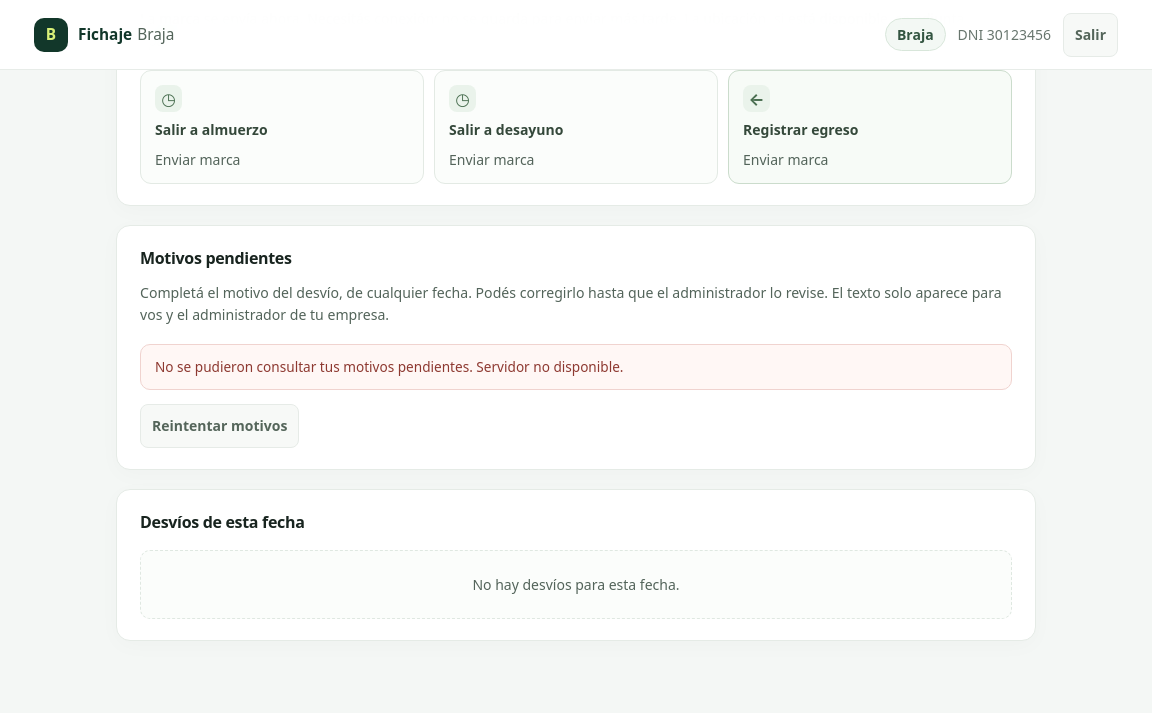
Test: EmployeeApp › panel de motivos pendientes › si fallan los pendientes, la jornada se muestra y el panel ofrece reintentar solo los motivos
(page scrolled)
Expected: the button "← Registrar egreso Enviar marca" is enabled, top-left (728, 70), bottom-right (1012, 184)
Expected: the message shows "No se pudieron consultar tus motivos pendientes.", top-left (155, 356), bottom-right (476, 376)
Click the button "Reintentar motivos" at {"x": 220, "y": 426}, box top-left (140, 404), bottom-right (299, 448)
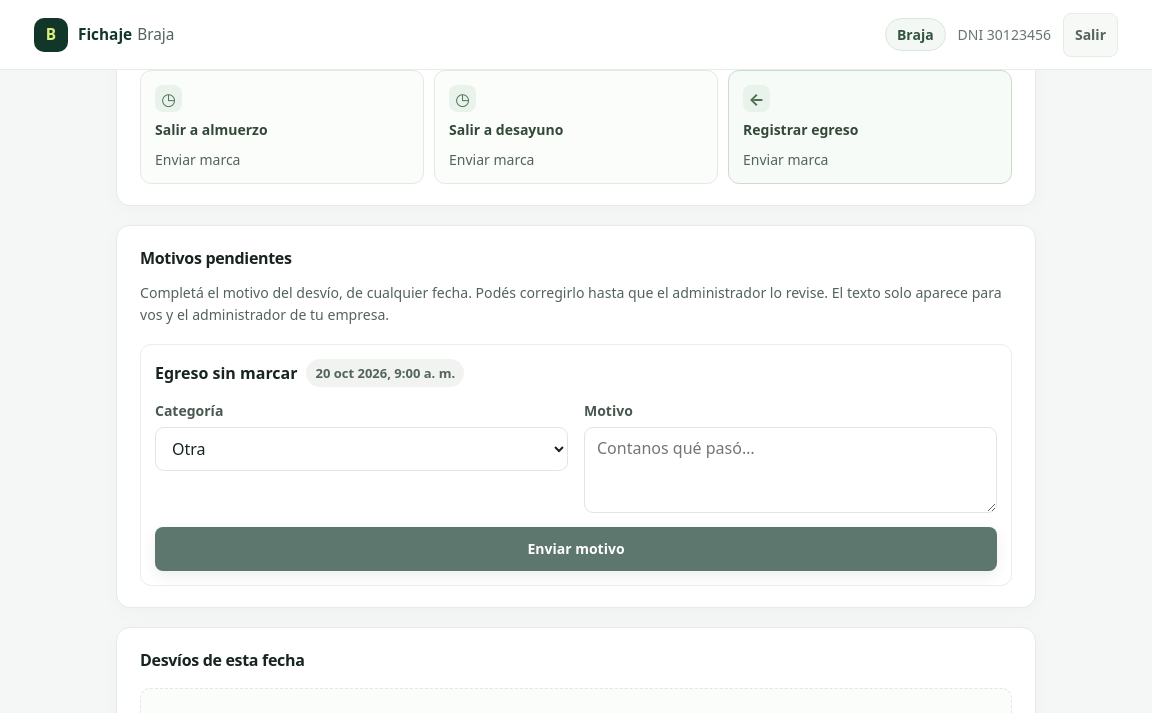
Now the form labelled "Motivo" shows "Egreso sin marcar", box top-left (155, 362), bottom-right (298, 384)
Now the message "No se pudieron consultar tus motivos pendientes. Servidor no disponible." is gone
